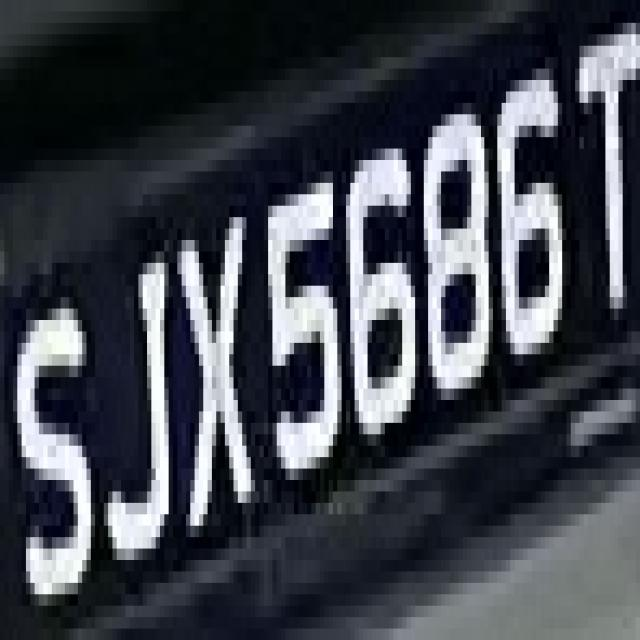5: (251, 149, 350, 480)
6: (333, 126, 419, 468), (493, 46, 571, 366)
8: (406, 68, 506, 423)
J: (100, 206, 182, 583)
S: (9, 274, 95, 606)
T: (562, 0, 640, 320)
X: (160, 183, 264, 548)
